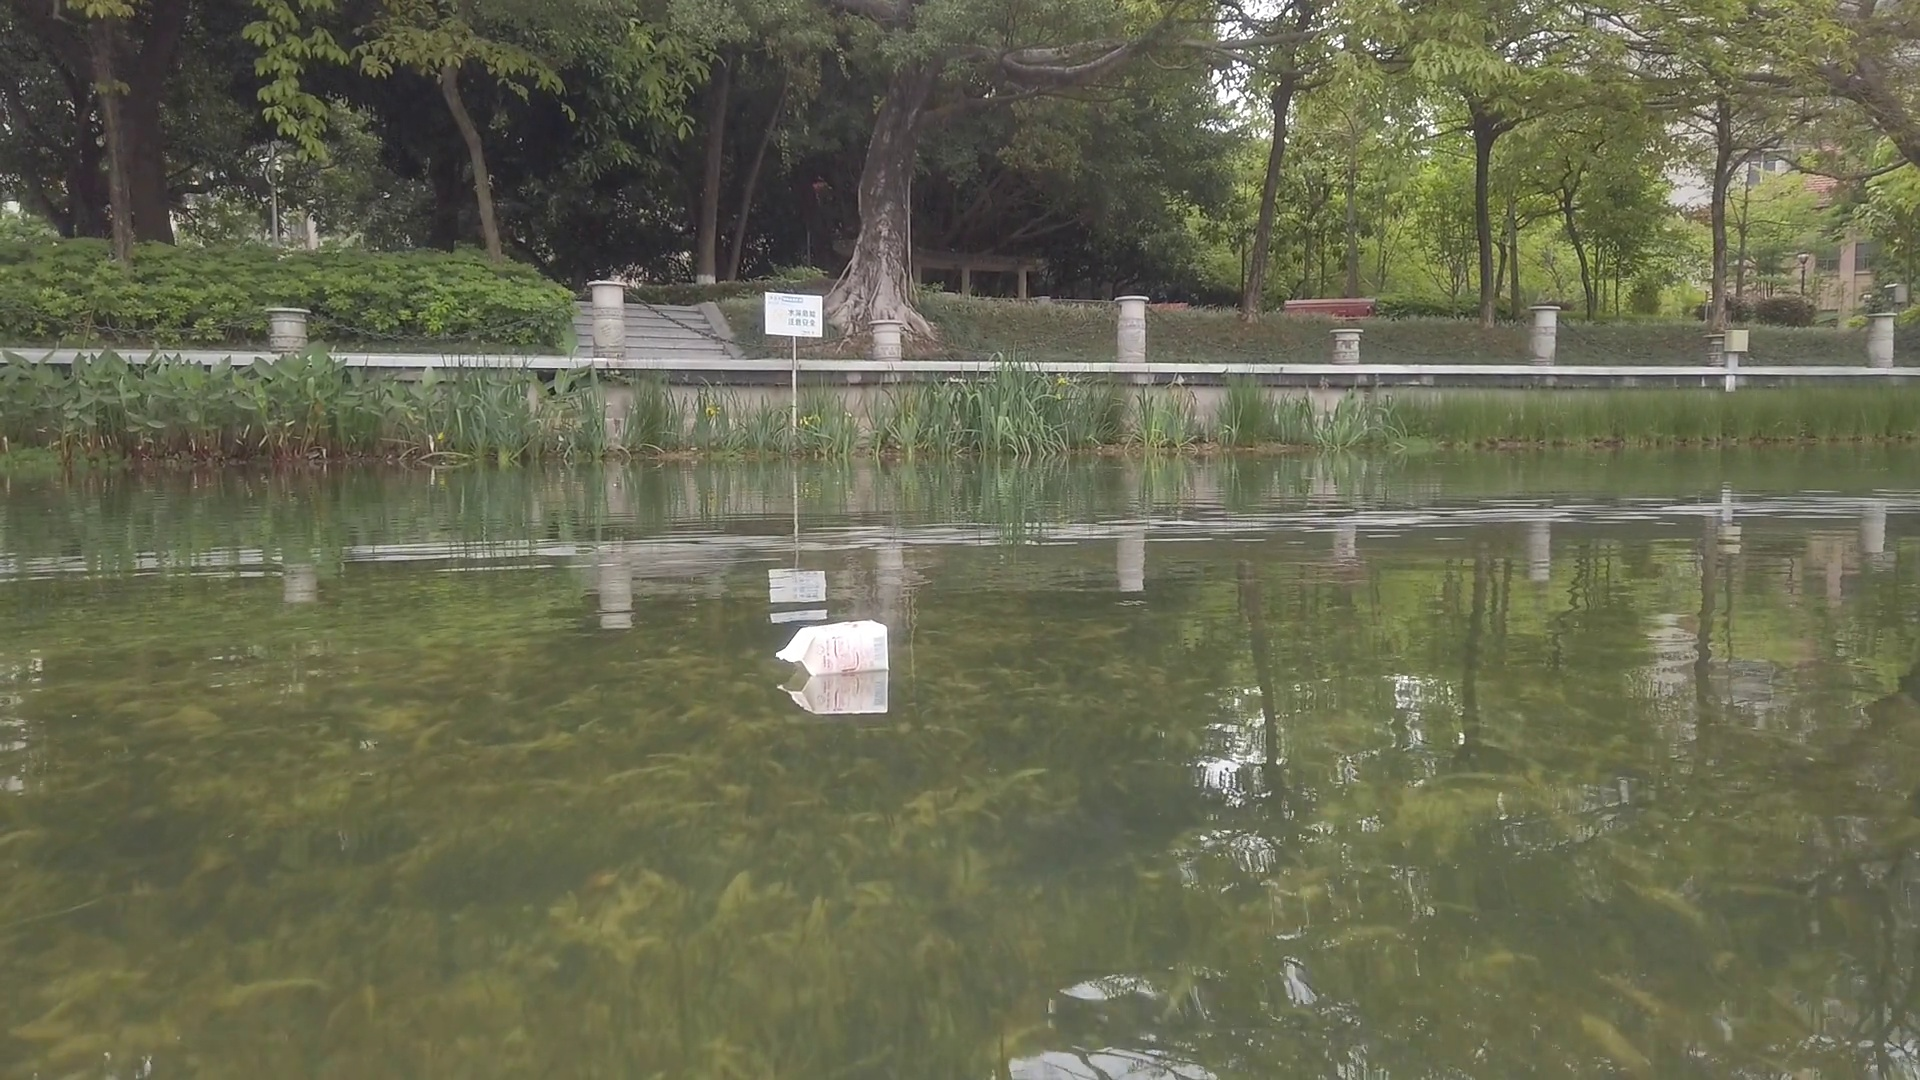carton: (775, 622, 889, 673)
